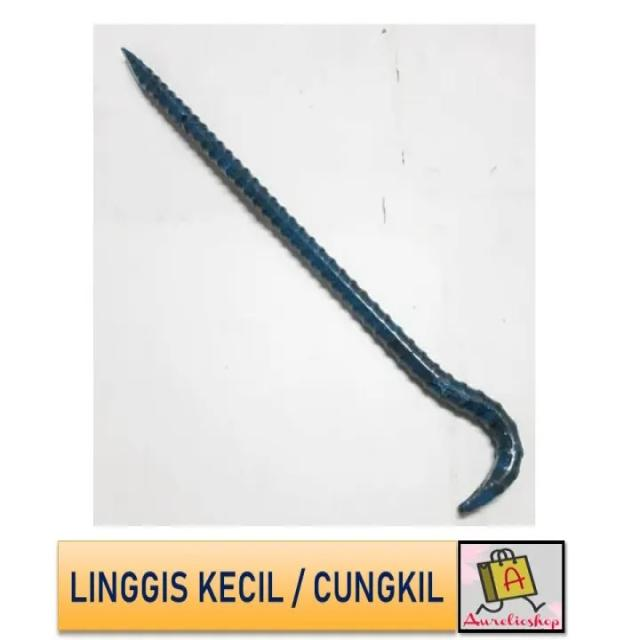Linggis: (121, 45, 523, 521)
